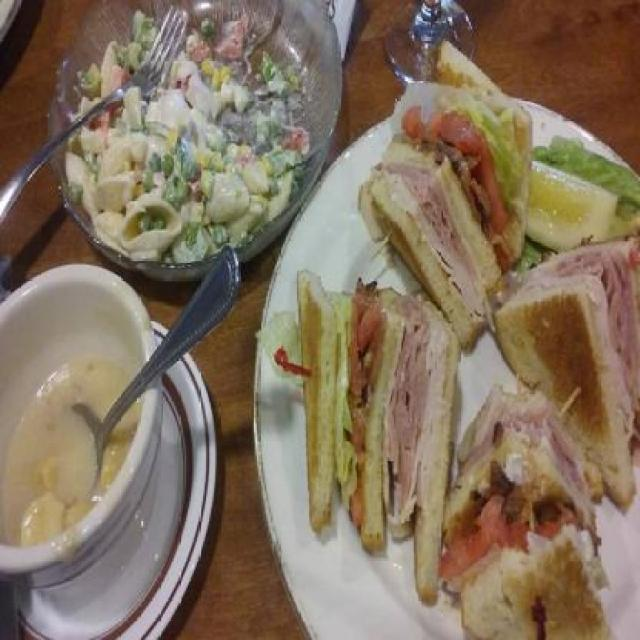club sandwich: (309, 56, 633, 639)
gnocchi: (62, 16, 308, 270)
